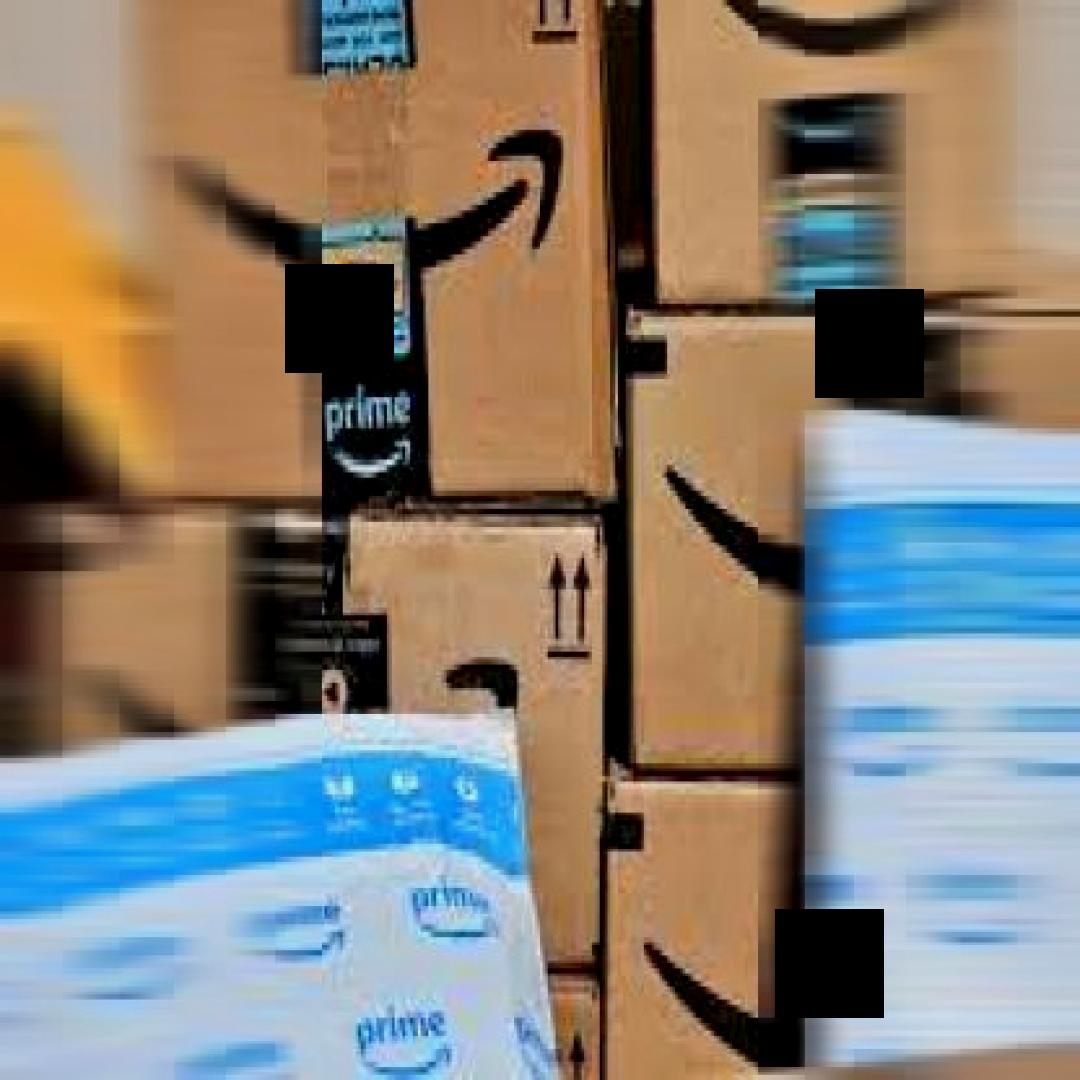package: (47, 503, 605, 966), (134, 0, 620, 504), (626, 299, 1078, 789), (604, 771, 1078, 1075), (649, 0, 1018, 317)
